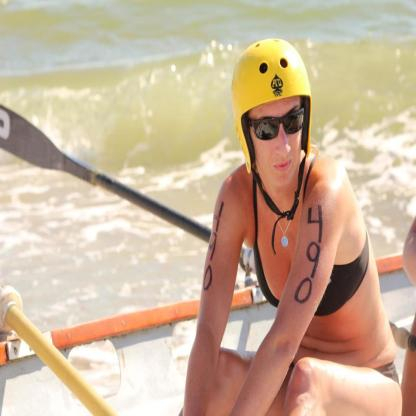Helmet: (231, 32, 318, 234)
